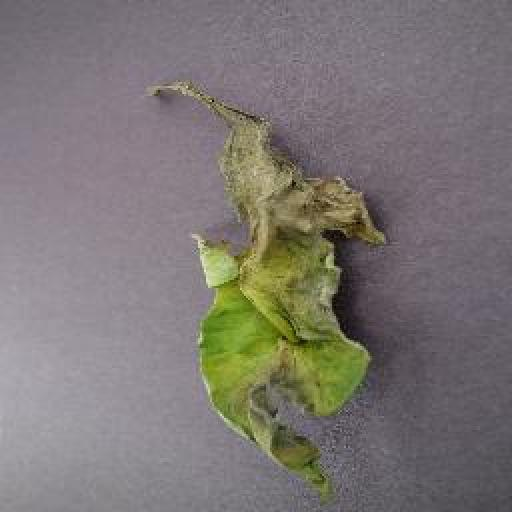Late Blight: (151, 75, 393, 496)
